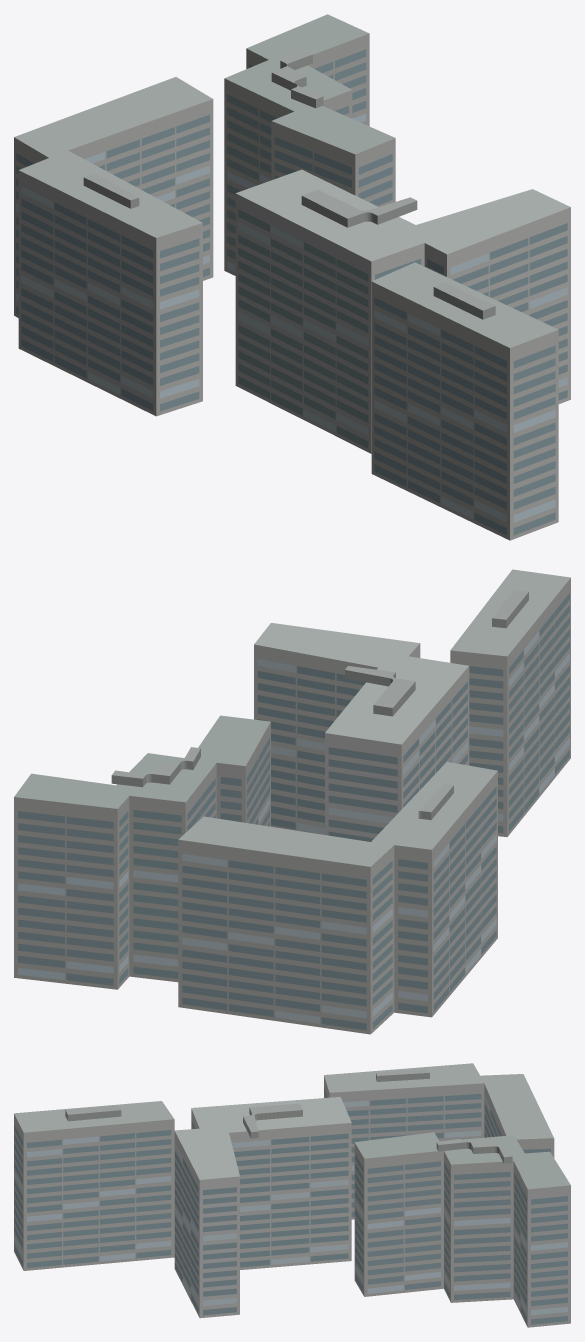
The model's file is apt-a13983707.glb.
The picture shows the model from 3 angles, top to bottom: view 1: azimuth 30°, elevation 25°; view 2: azimuth 150°, elevation 25°; view 3: azimuth 270°, elevation 25°; orthographic projection. The views are drawn at different scales.
Visible parts, largest first — view 1: apt-a13983707; view 2: apt-a13983707; view 3: apt-a13983707.
Part boxes in pixels (x1,y1,x2,y2): apt-a13983707: (14, 14, 570, 540); apt-a13983707: (14, 569, 570, 1034); apt-a13983707: (14, 1063, 570, 1327).
Size of the model in its own units: 82.74 by 41 by 143.
